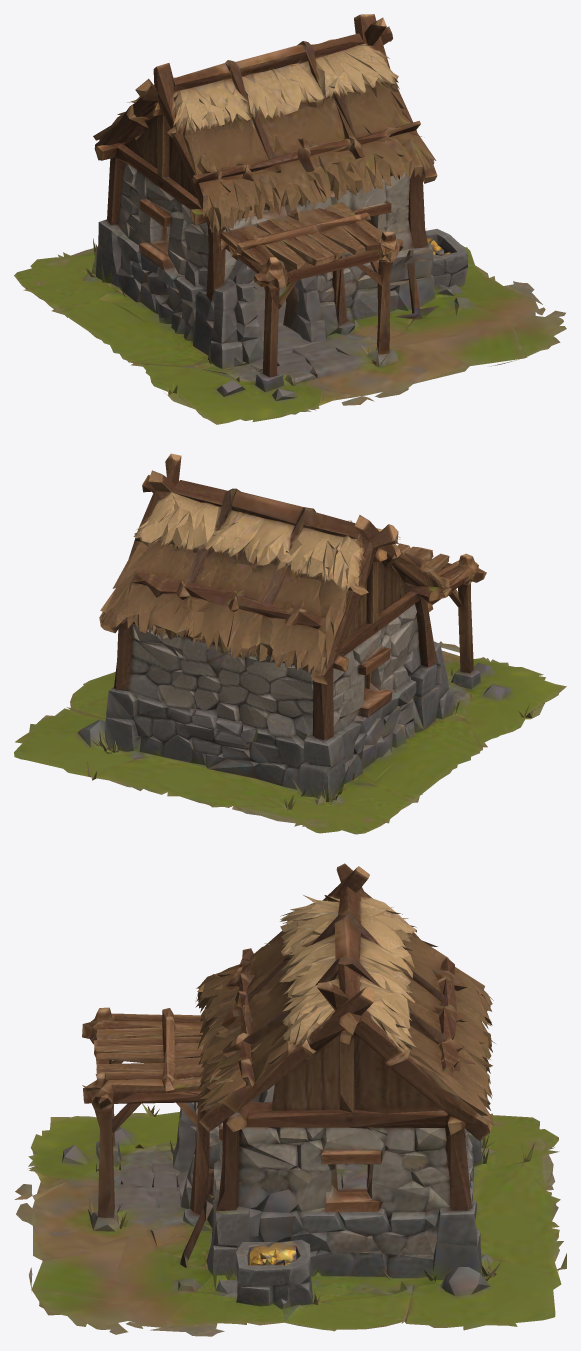
The model's file is minecamp.glb.
3 renders of one model, top to bottom at view 1: azimuth 30°, elevation 25°; view 2: azimuth 150°, elevation 25°; view 3: azimuth 270°, elevation 25°, orthographic. The views are drawn at different scales.
Size of the model in its own units: 1.8 by 1.11 by 1.86.
1 material, 1 textured.
